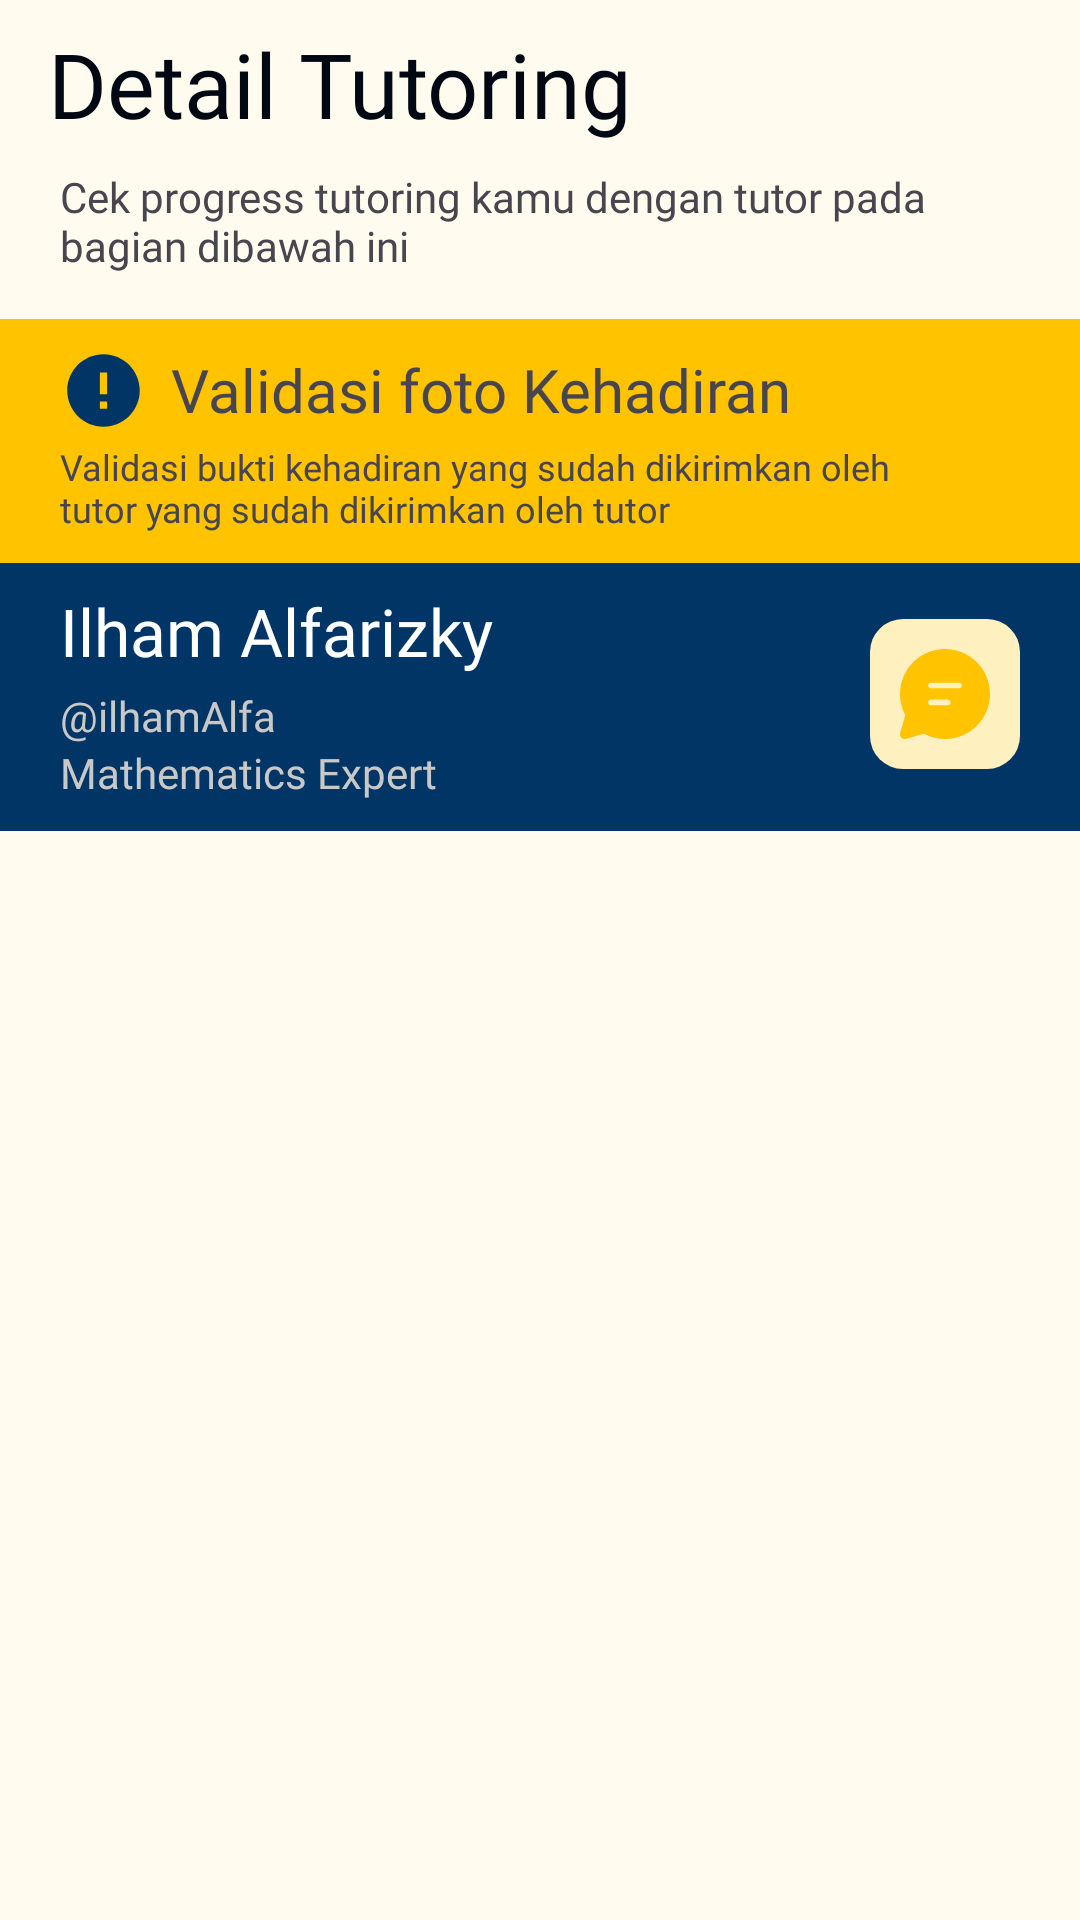

Named icons in this screenshot (1080 × 1920) and their centers, (x=x, y=y):
chat button: (x=945, y=694)
ic error: (x=103, y=390)
